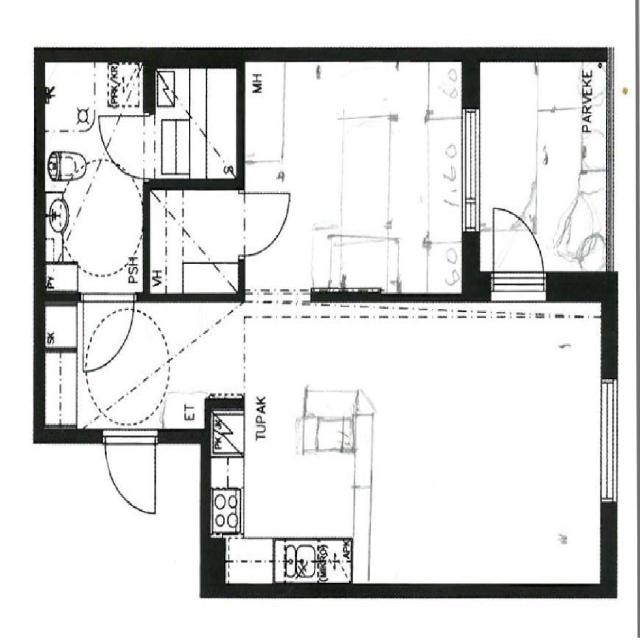door: (483, 198, 548, 290), (99, 430, 161, 520), (76, 284, 139, 370), (234, 178, 292, 263), (352, 386, 378, 420)
window: (594, 370, 628, 513), (457, 100, 487, 224)
zone: (255, 55, 462, 299), (478, 58, 614, 278), (40, 54, 148, 296), (207, 412, 361, 580), (145, 62, 239, 182), (146, 183, 244, 297)
